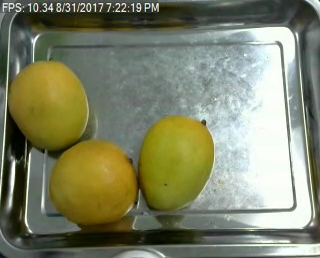Mango: (6, 57, 90, 150), (138, 114, 213, 211), (49, 139, 135, 223)
